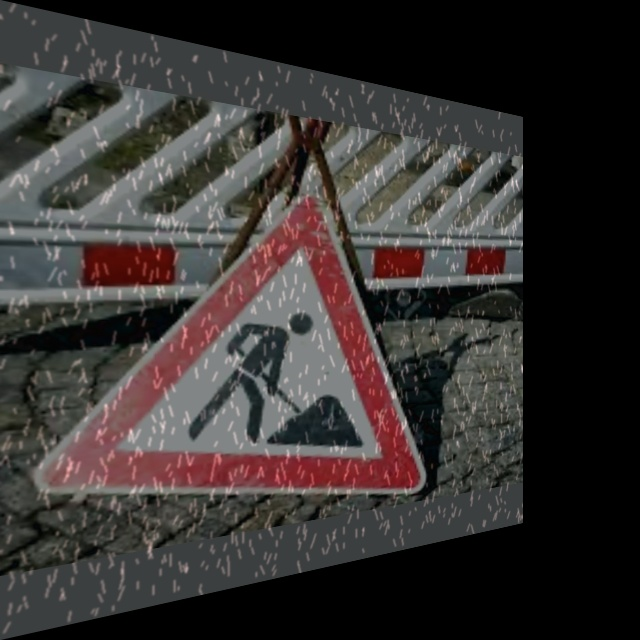Men_at_Work: (99, 183, 428, 546)
